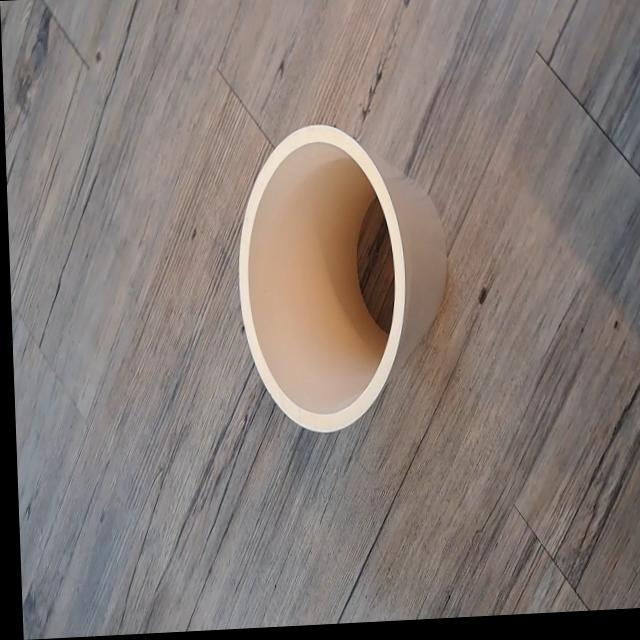CORAL: (218, 102, 459, 459)
